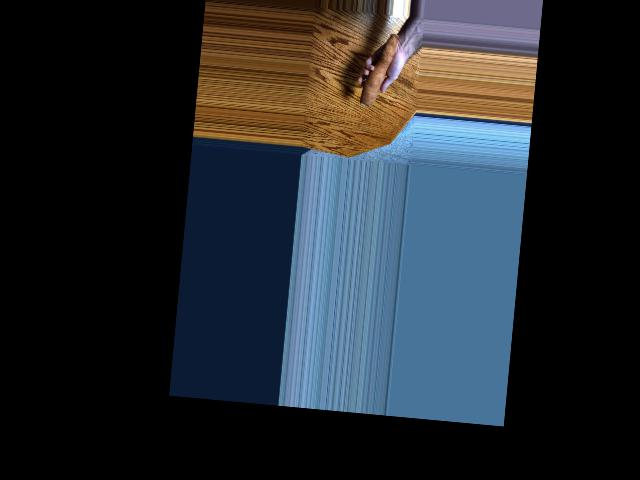sweet_potato: (357, 32, 400, 107)
